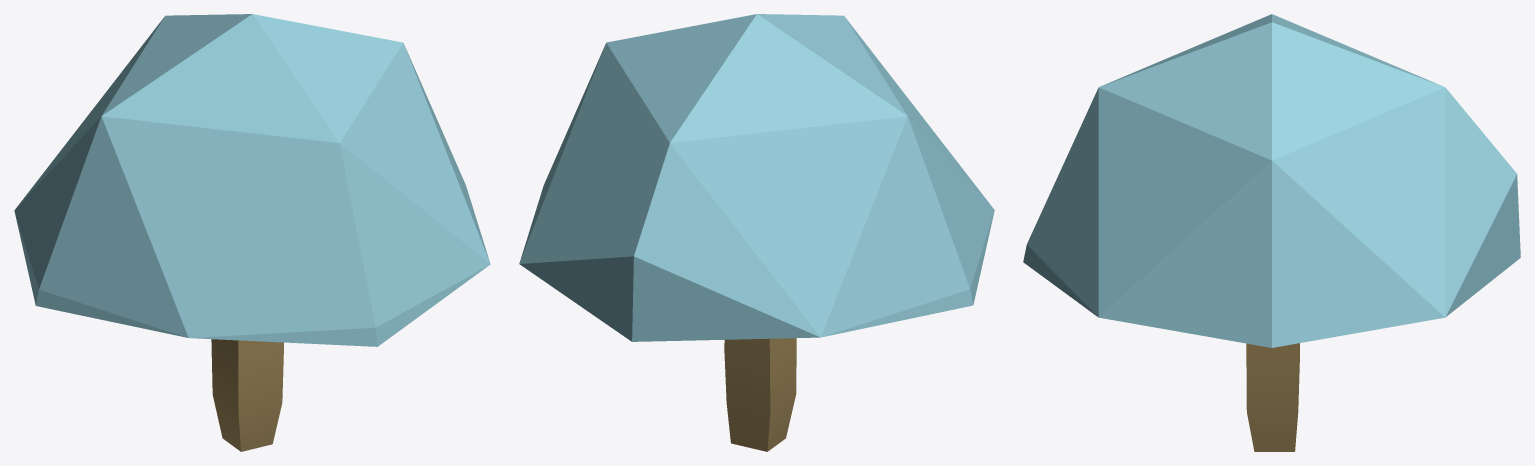
File: Mushroom_1.FBX
3 views of the same model, side by side, from view 1: azimuth 30°, elevation 25°; view 2: azimuth 150°, elevation 25°; view 3: azimuth 270°, elevation 25° (orthographic).
Visible parts, largest first — view 1: GeoSphere001, Box001; view 2: GeoSphere001, Box001; view 3: GeoSphere001, Box001.
Part boxes in pixels (x1,y1,x2,y2): GeoSphere001: (14,14,490,346); Box001: (211,339,283,451); GeoSphere001: (519,14,994,341); Box001: (724,338,796,451); GeoSphere001: (1023,14,1520,347); Box001: (1246,343,1299,451).
Bounding box in the file's own units: 10.89 × 10.32 × 10.97.
